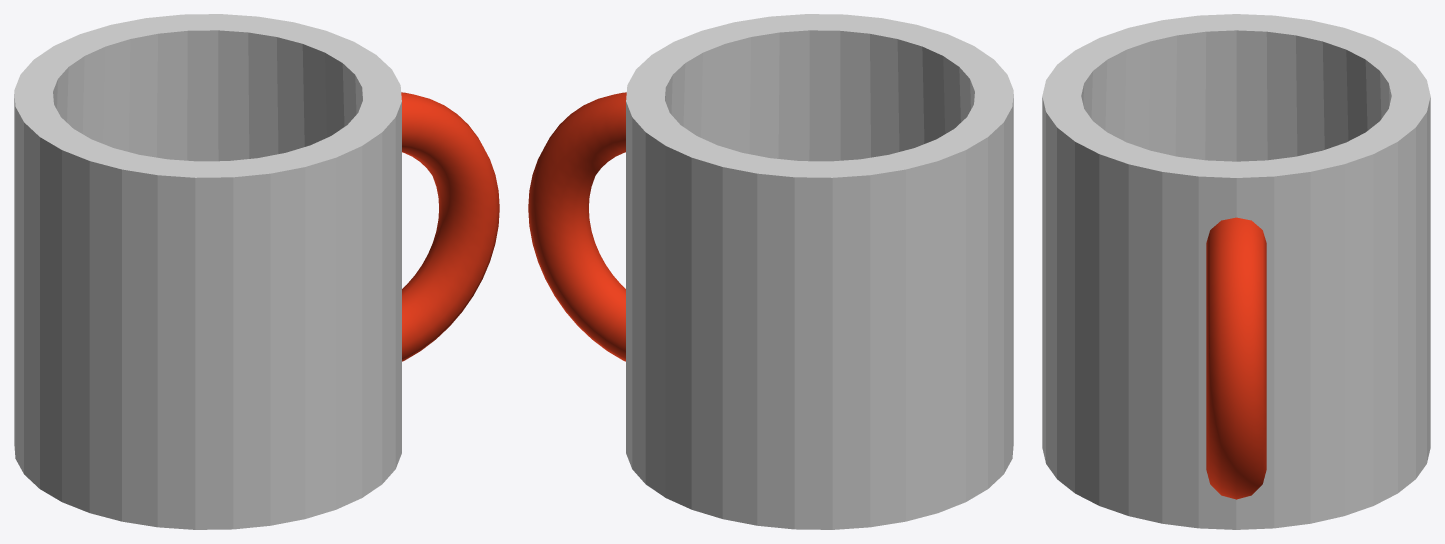
The model's file is magcup.fbx.
3 renders of one model, left to right at view 1: azimuth 30°, elevation 25°; view 2: azimuth 150°, elevation 25°; view 3: azimuth 270°, elevation 25°, orthographic.
Parts seen in each view (by area): view 1: 円柱, トーラス; view 2: 円柱, トーラス; view 3: 円柱, トーラス.
Part boxes in pixels (left/top/right/bottom): 円柱: left=14, top=14, right=401, bottom=529; トーラス: left=401, top=92, right=499, bottom=361; 円柱: left=626, top=14, right=1013, bottom=529; トーラス: left=528, top=92, right=626, bottom=361; 円柱: left=1042, top=14, right=1430, bottom=529; トーラス: left=1206, top=217, right=1266, bottom=499.
Size of the model in its own units: 271 by 200 by 200.
